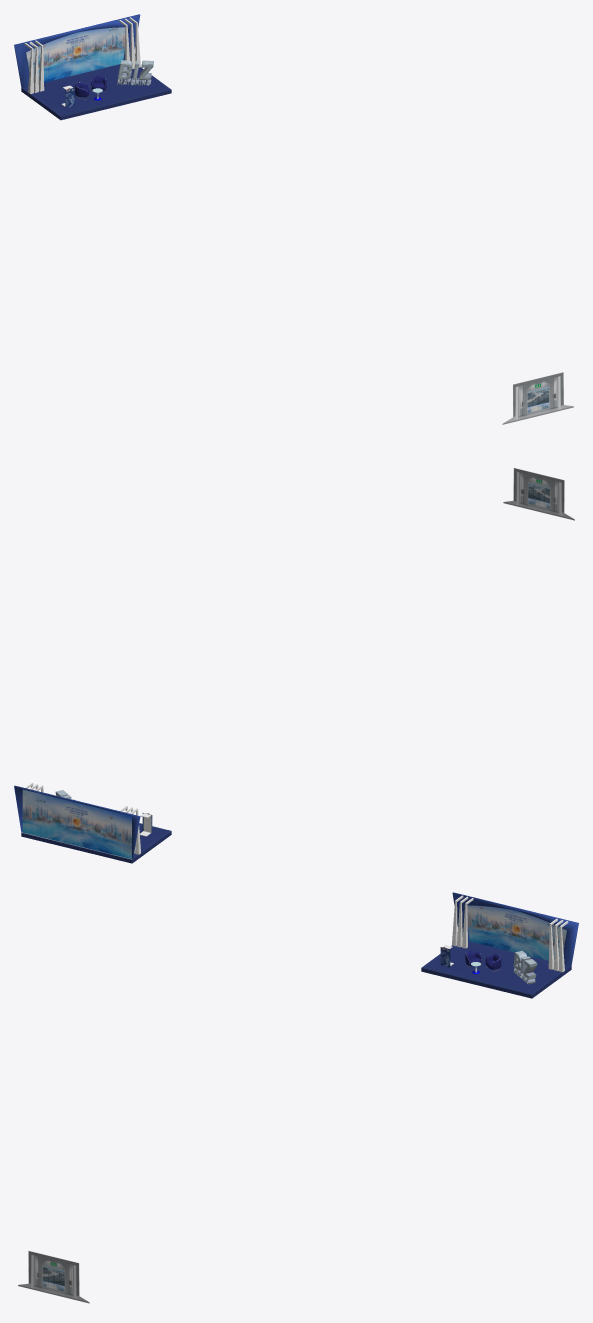
The model's file is sankhau.glb.
3 views of the same model, one above another, from view 1: azimuth 30°, elevation 25°; view 2: azimuth 150°, elevation 25°; view 3: azimuth 330°, elevation 25° (orthographic).
Parts seen in each view (by area): view 1: KV LED, HALL_BACK DOOR, KV LED.001, biz; view 2: KV LED, HALL_BACK DOOR, KV LED.001; view 3: KV LED, HALL_BACK DOOR, KV LED.001, biz.
Part boxes in pixels (left/top/right/bottom): KV LED: left=21, top=17, right=171, bottom=120; HALL_BACK DOOR: left=502, top=372, right=573, bottom=424; KV LED.001: left=14, top=14, right=140, bottom=88; biz: left=117, top=60, right=153, bottom=85; KV LED: left=21, top=782, right=171, bottom=863; HALL_BACK DOOR: left=503, top=468, right=574, bottom=520; KV LED.001: left=14, top=785, right=140, bottom=859; KV LED: left=421, top=895, right=571, bottom=998; HALL_BACK DOOR: left=18, top=1251, right=89, bottom=1303; KV LED.001: left=452, top=892, right=578, bottom=966; biz: left=513, top=950, right=537, bottom=984.
Size of the model in its own units: 14.84 by 5.94 by 94.57.
Materials: 13 (5 with a texture image).
